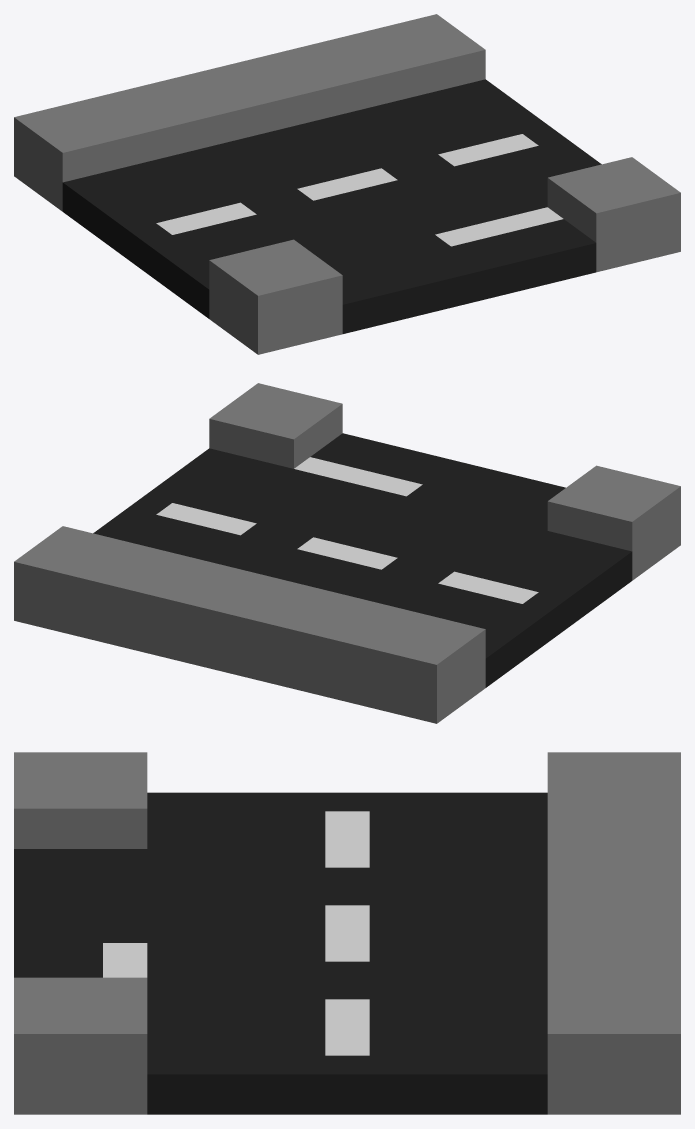
File: Intersection02.obj
3 renders of one model, top to bottom at view 1: azimuth 30°, elevation 25°; view 2: azimuth 150°, elevation 25°; view 3: azimuth 270°, elevation 25°, orthographic. The views are drawn at different scales.
Parts seen in each view (by area): view 1: Intersection02; view 2: Intersection02; view 3: Intersection02.
Boxes of the visible parts, x1,y1,x2,y2 form: Intersection02: (14,14,680,354); Intersection02: (14,383,680,723); Intersection02: (14,752,680,1114).
Size of the model in its own units: 1.5 by 0.2 by 1.5.
1 material, 1 textured.
